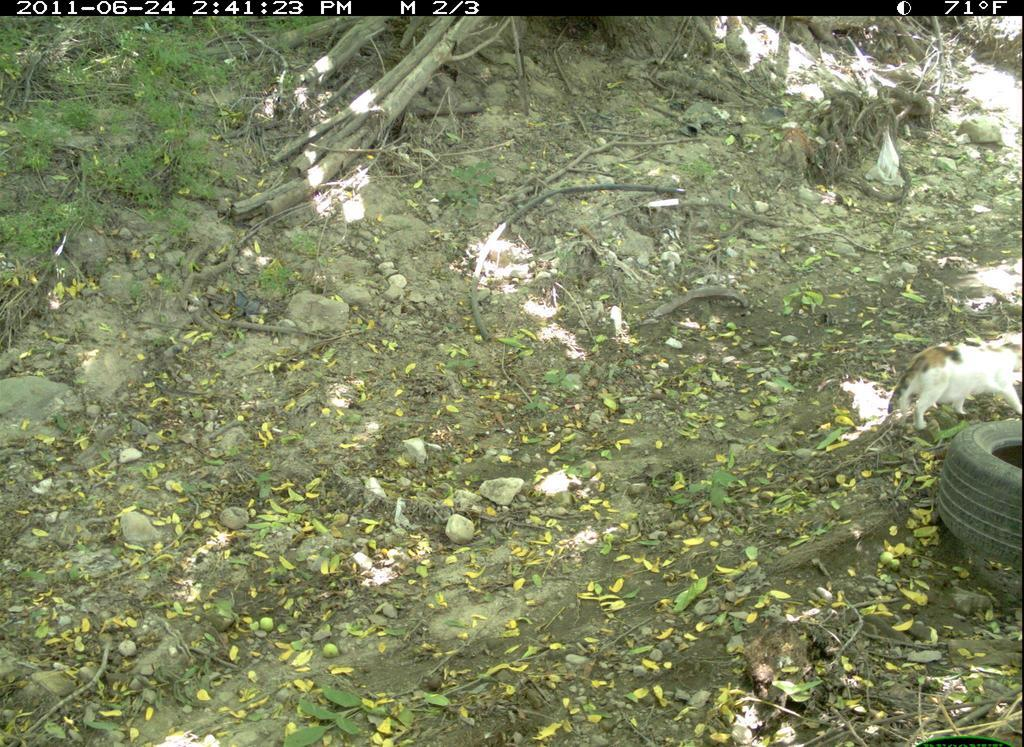cat: (881, 336, 1023, 443)
